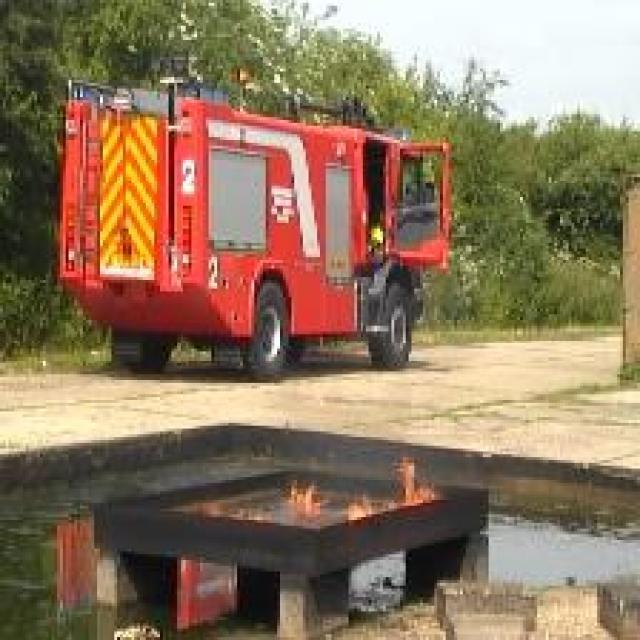Fire: (347, 460, 444, 523), (287, 482, 327, 514)
